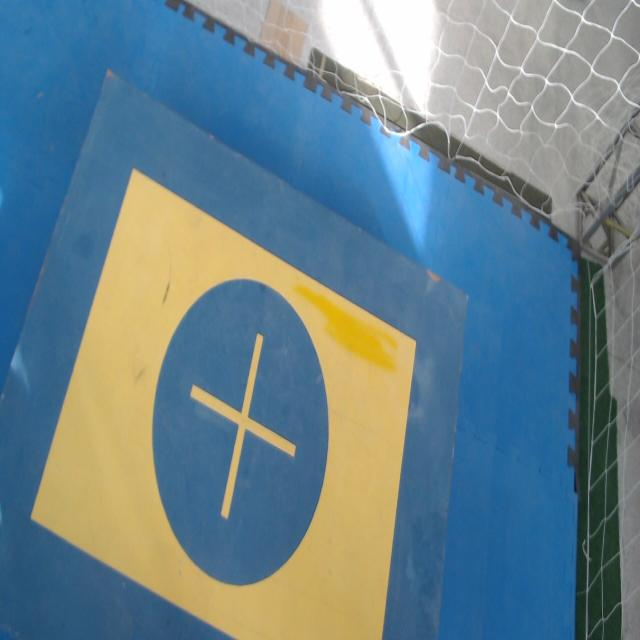base_inicio: (29, 169, 419, 639)
